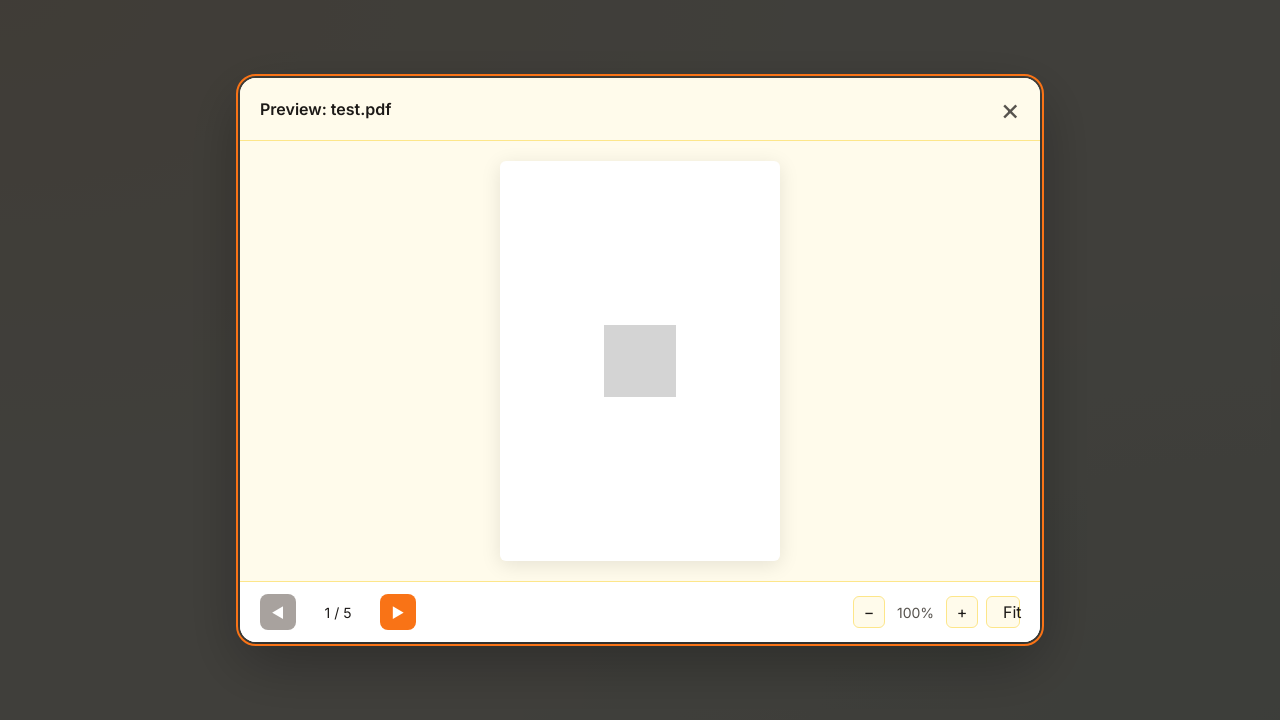
PreviewModal › zoom controls work
Check: the heading "Preview: test.pdf" is shown, box [260, 97, 392, 121]
Click the button named "Zoom in". click: (962, 612)
box: [946, 596, 978, 628]
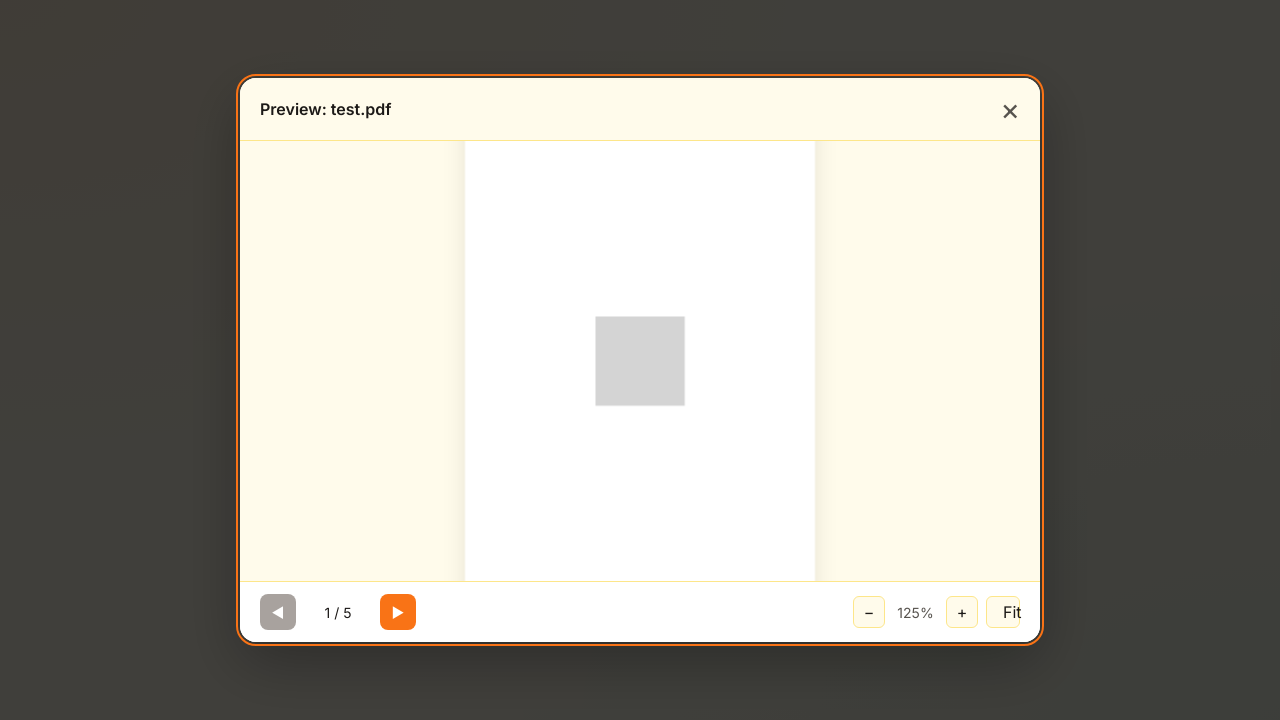
Check: the text "125%" is shown, box [897, 604, 934, 620]
Click the button named "Zoom out". click: (869, 612)
box: [853, 596, 885, 628]
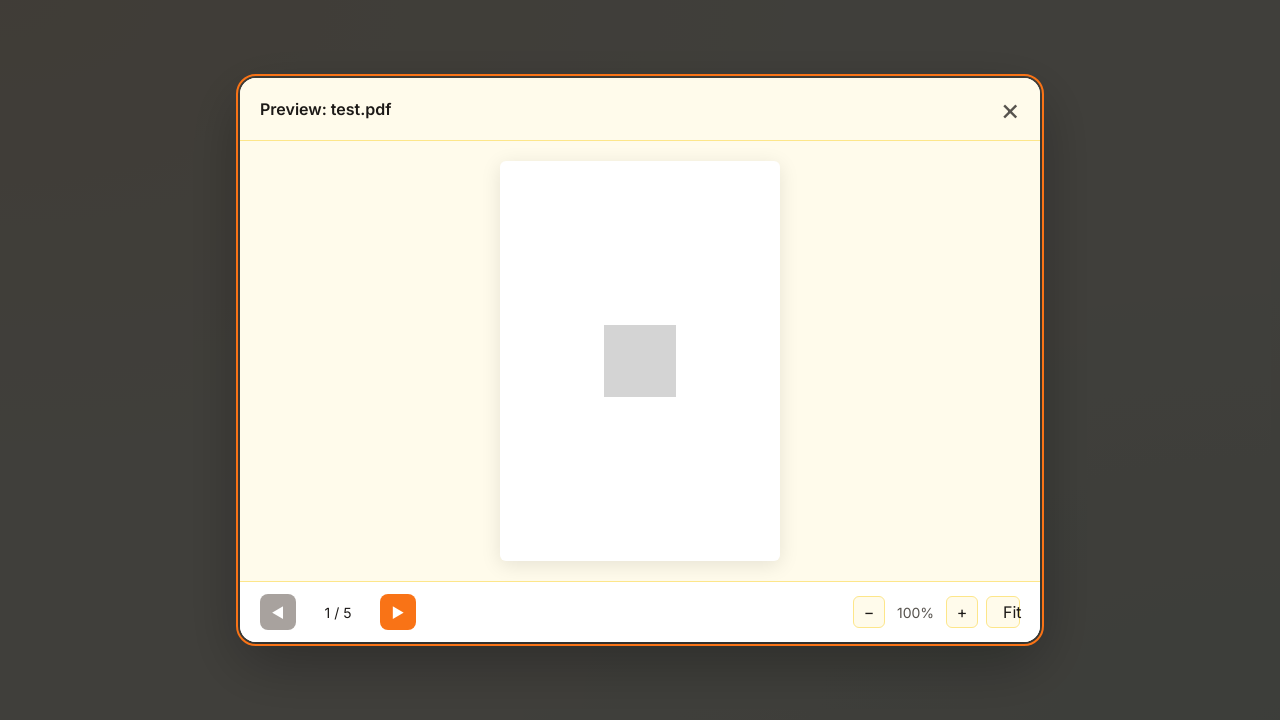
Check: the text "100%" is shown, box [897, 604, 934, 620]
